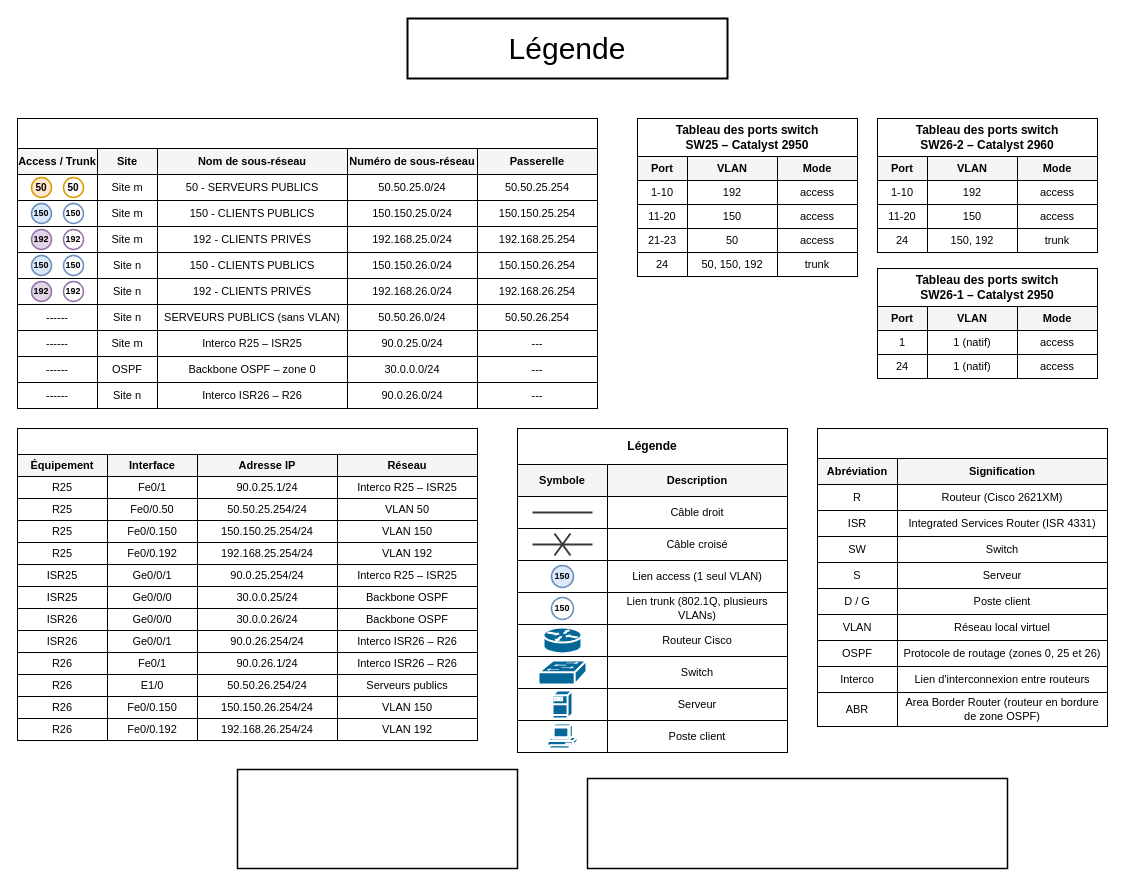
Image size: 1125x886. Some labels were removed from this diagram. Each missing label, with the centre of its shape:
"Groupe : 2B1 Alfeze ALI Soizic DELUGEARD Lilian MALIN Raphael GAILLARD" belongs at pixel 377 818.
"Nomenclature" belongs at pixel 962 443.
"SAE3-CYBER03 – Schéma de câblage 08/11/2026" belongs at pixel 797 823.
"Tableau des interfaces routeurs" belongs at pixel 247 441.
"Tableau des sous-réseaux" belongs at pixel 307 133.
